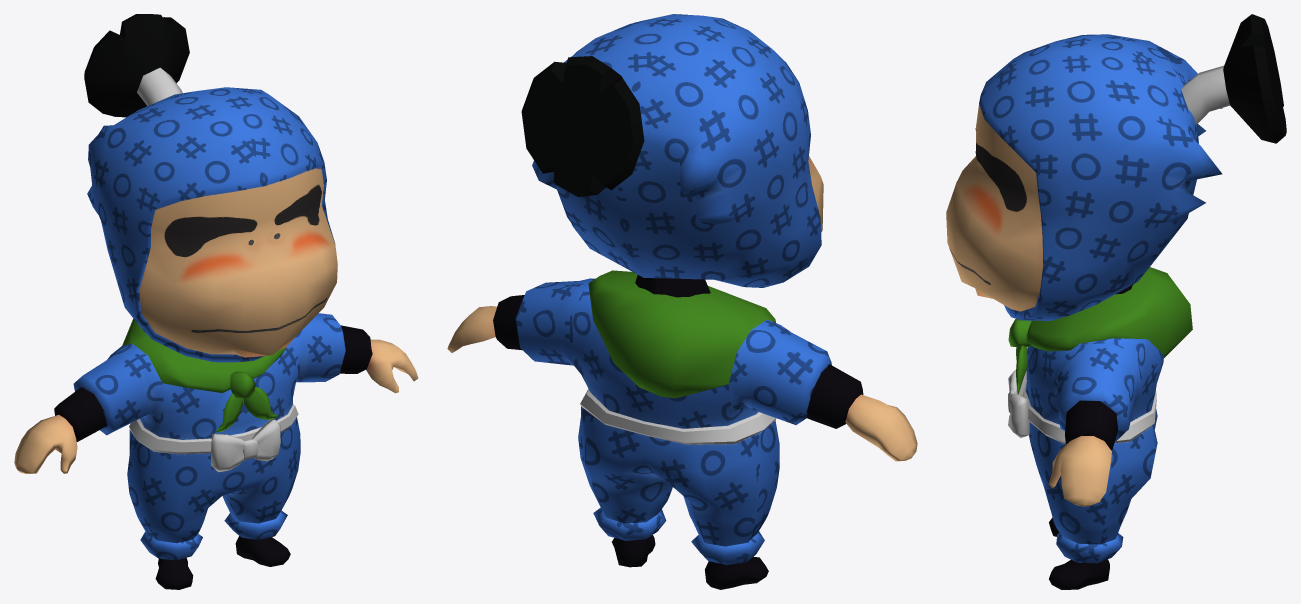
Rendered from Ninja.fbx.
The picture shows the model from 3 angles, left to right: view 1: azimuth 30°, elevation 25°; view 2: azimuth 150°, elevation 25°; view 3: azimuth 270°, elevation 25°; orthographic projection. The views are drawn at different scales.
Parts seen in each view (by area): view 1: Ninja; view 2: Ninja; view 3: Ninja.
Boxes of the visible parts, left/top/right/bottom form: Ninja: left=14, top=14, right=418, bottom=589; Ninja: left=447, top=14, right=917, bottom=589; Ninja: left=946, top=14, right=1286, bottom=589.
Bounding box in the file's own units: 148 × 177 × 101.
1 material, 1 textured.
